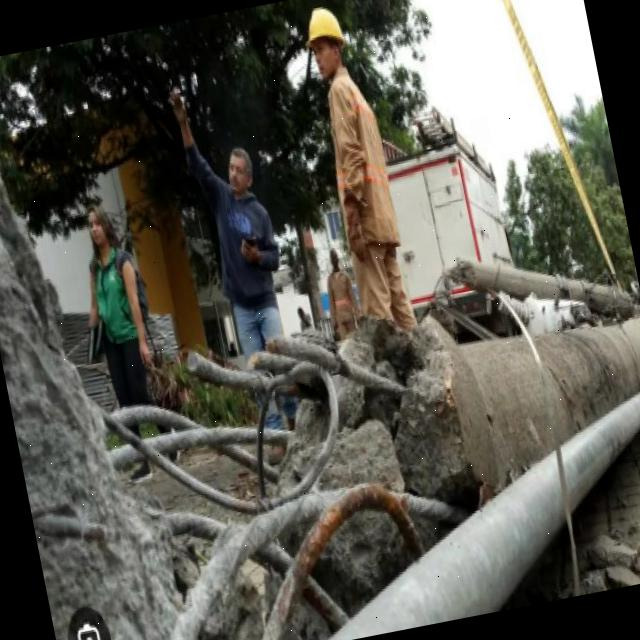Broken Pole: (94, 255, 640, 640)
